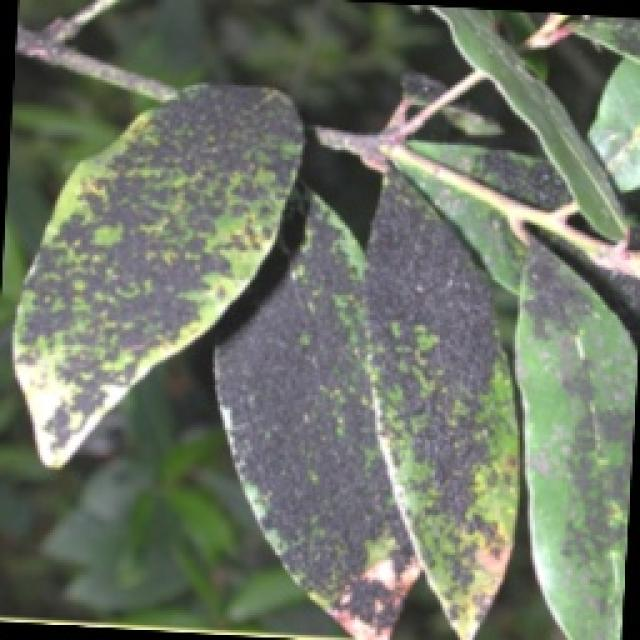Sooty Mold: (8, 8, 638, 638)
